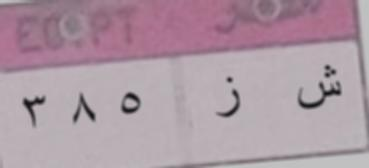5: (117, 84, 146, 124)
8: (18, 88, 55, 134), (68, 87, 102, 132)
sheen: (292, 61, 346, 114)
zay: (211, 72, 246, 127)
